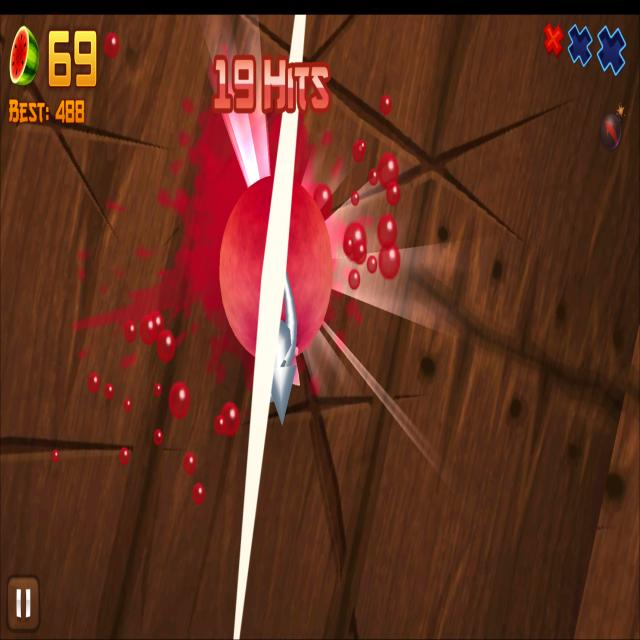fruit: (220, 176, 332, 388)
